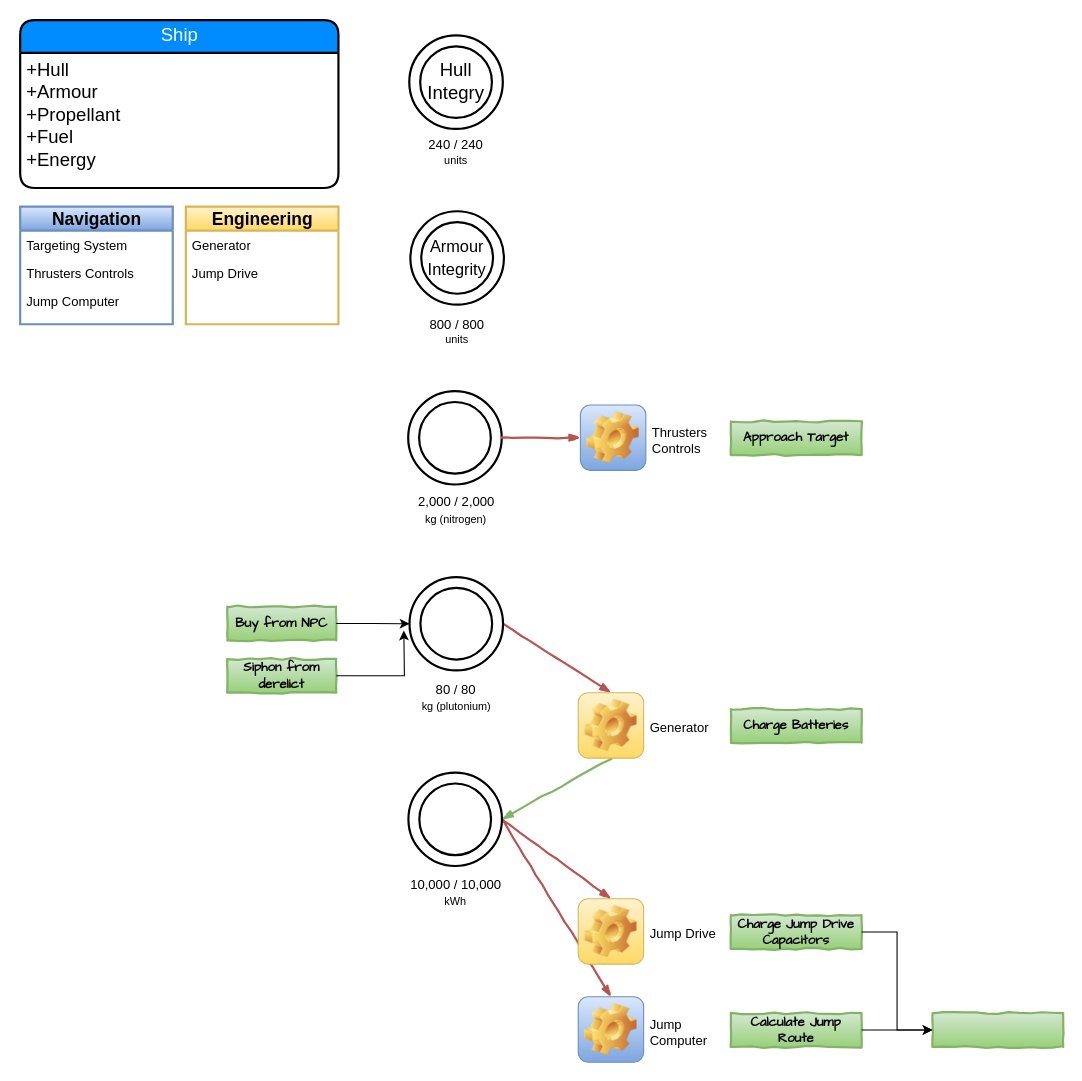
The diagram is 1082 pixels wide and 1081 high, and some of its shapes have lost their labels. The centre of each missing label's shape, as x and y in pixels:
Energy: the point at 454,819
Fuel: the point at 456,623
Initiate Jump: the point at 997,1029
Propellant: the point at 454,437
